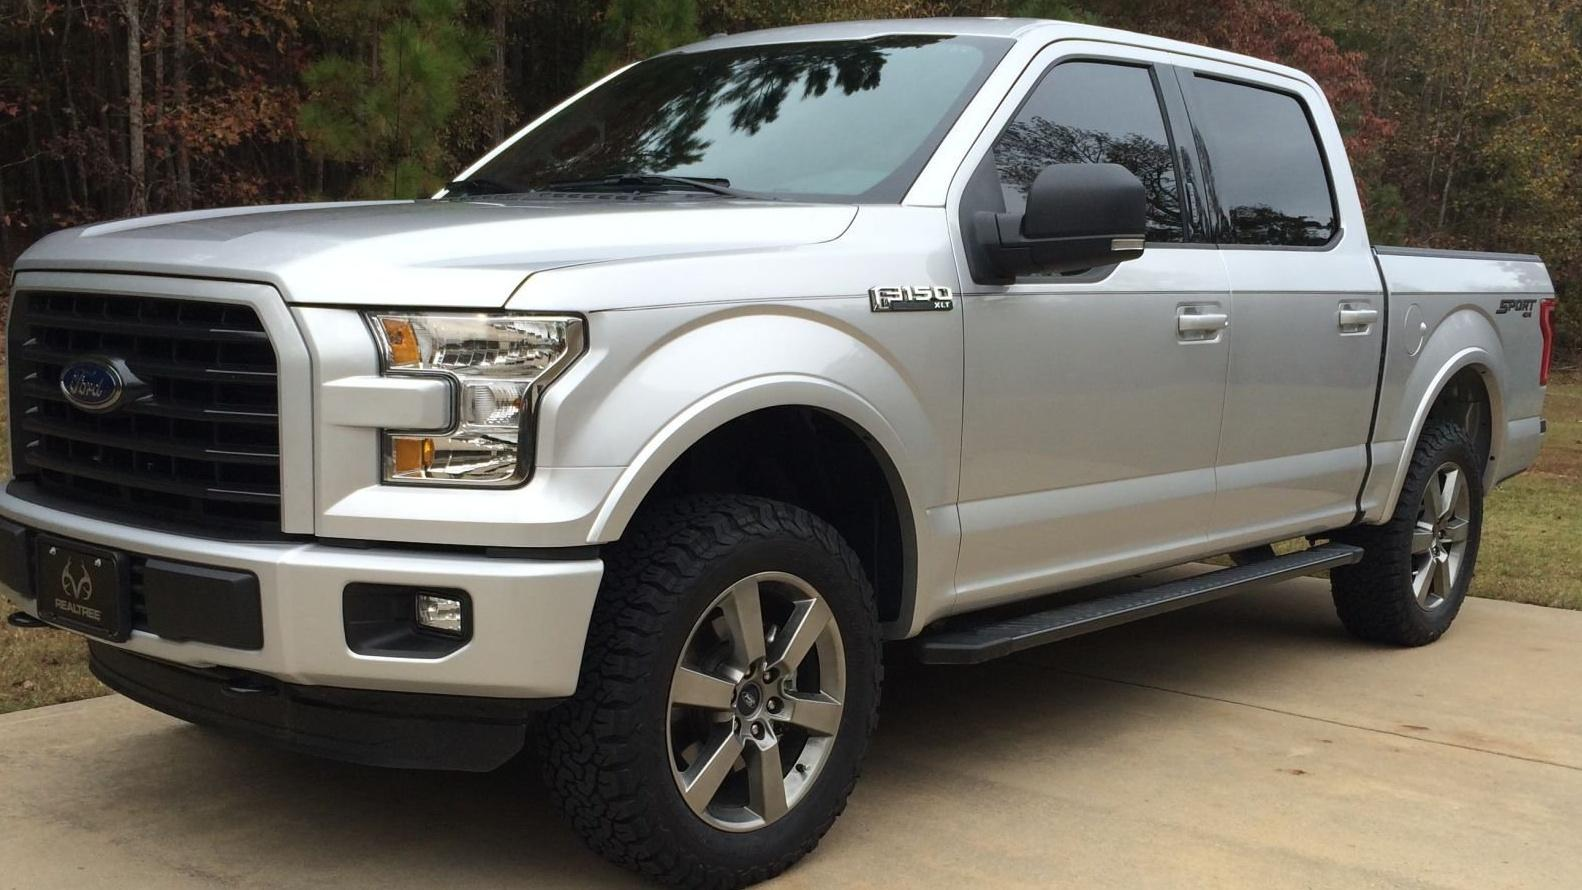Trucks: (0, 22, 1554, 887)
